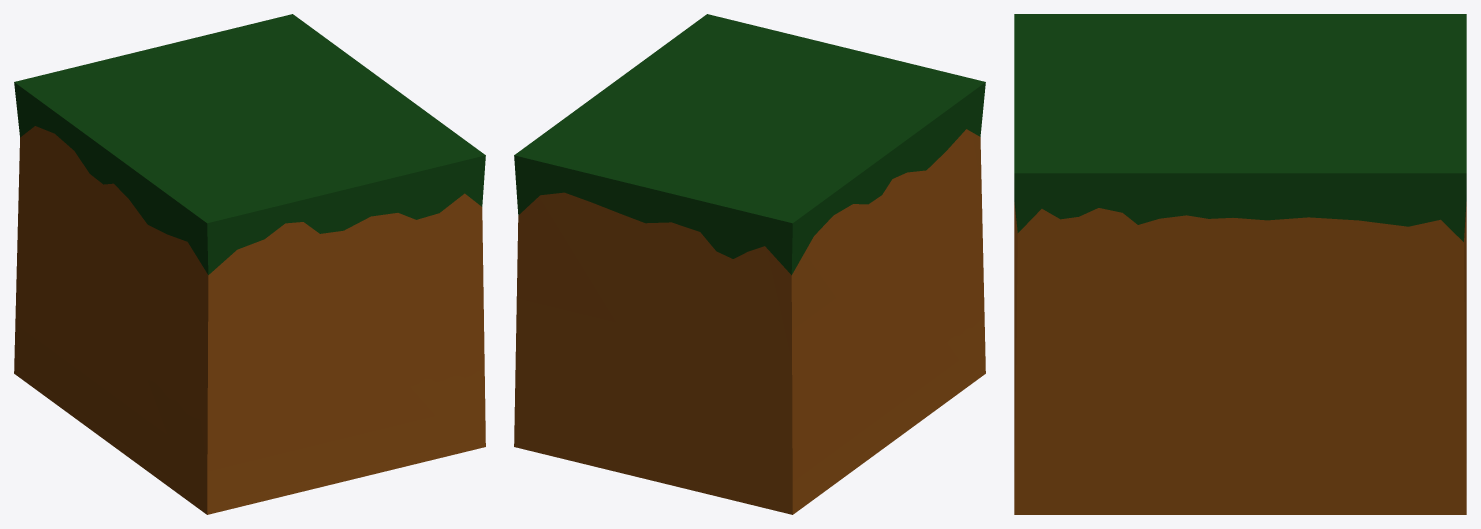
Rendered from BlockSteamMapa2fbx.fbx.
3 views of the same model, side by side, from view 1: azimuth 30°, elevation 25°; view 2: azimuth 150°, elevation 25°; view 3: azimuth 270°, elevation 25° (orthographic). The views are drawn at different scales.
Parts seen in each view (by area): view 1: Cube; view 2: Cube; view 3: Cube.
Boxes of the visible parts, x1=… form: Cube: x1=14, y1=14, x2=485, y2=514; Cube: x1=514, y1=14, x2=985, y2=514; Cube: x1=1014, y1=14, x2=1466, y2=514.
Size of the model in its own units: 1000 by 1000 by 1201.
